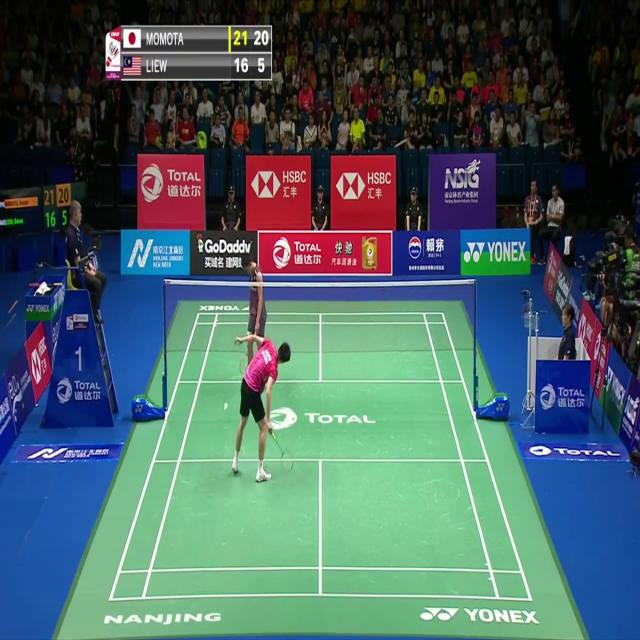Shuttlecock: (223, 400, 230, 412)
